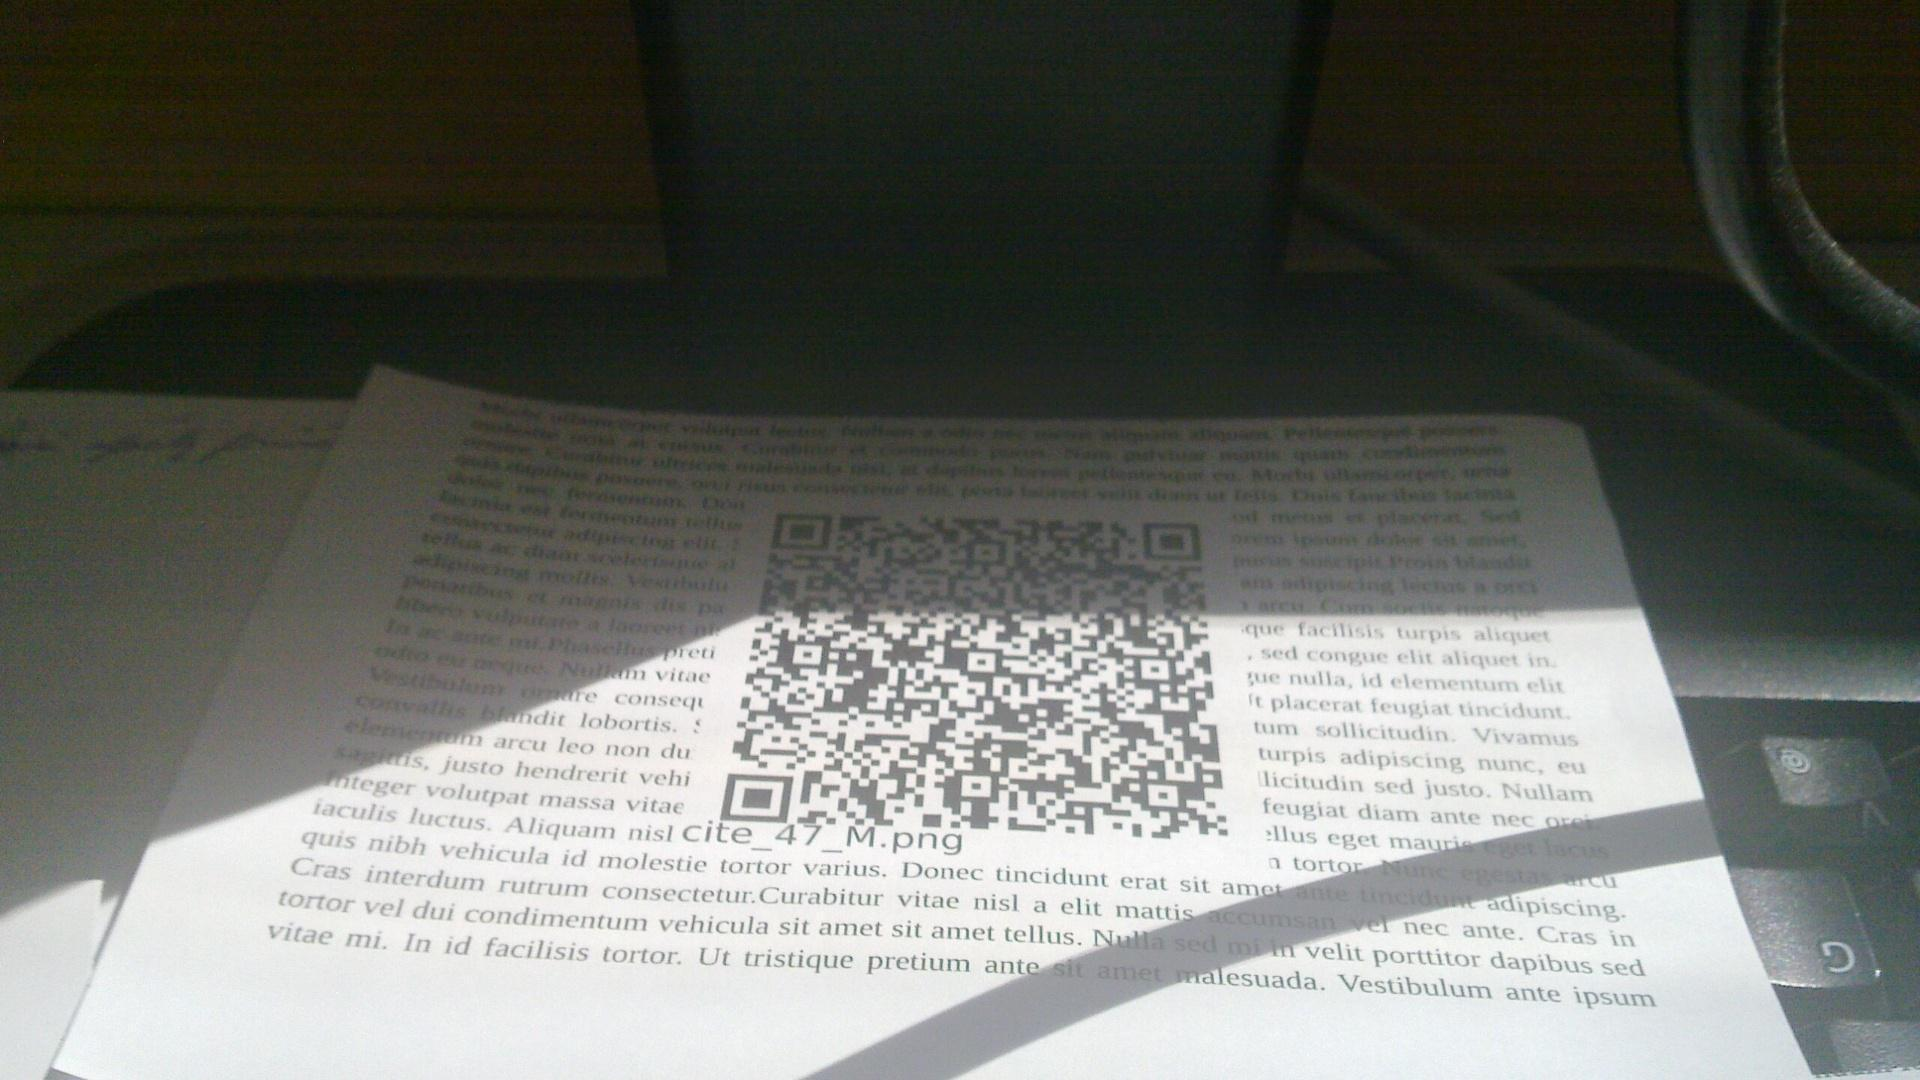qr_code: (721, 512, 1229, 837)
